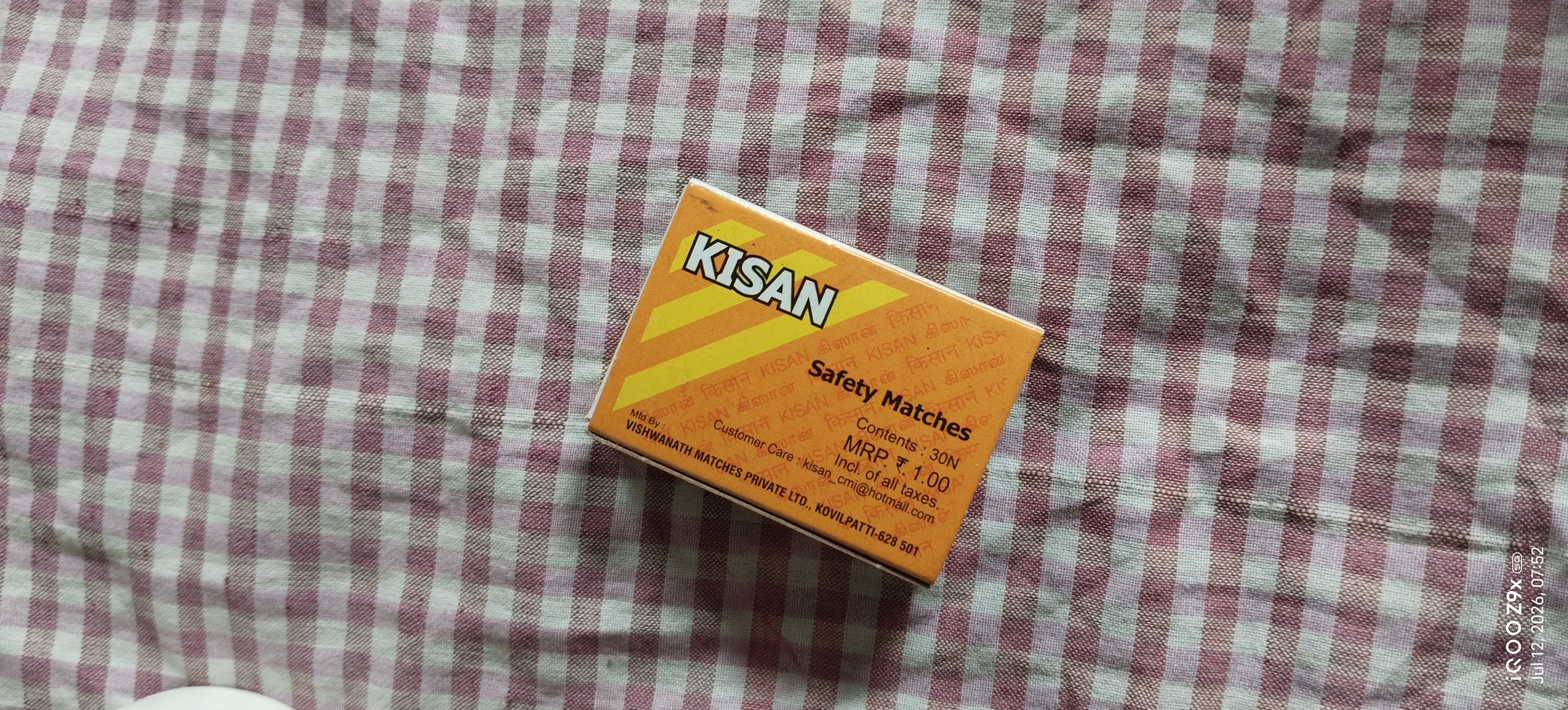matchbox: (576, 156, 1078, 616)
